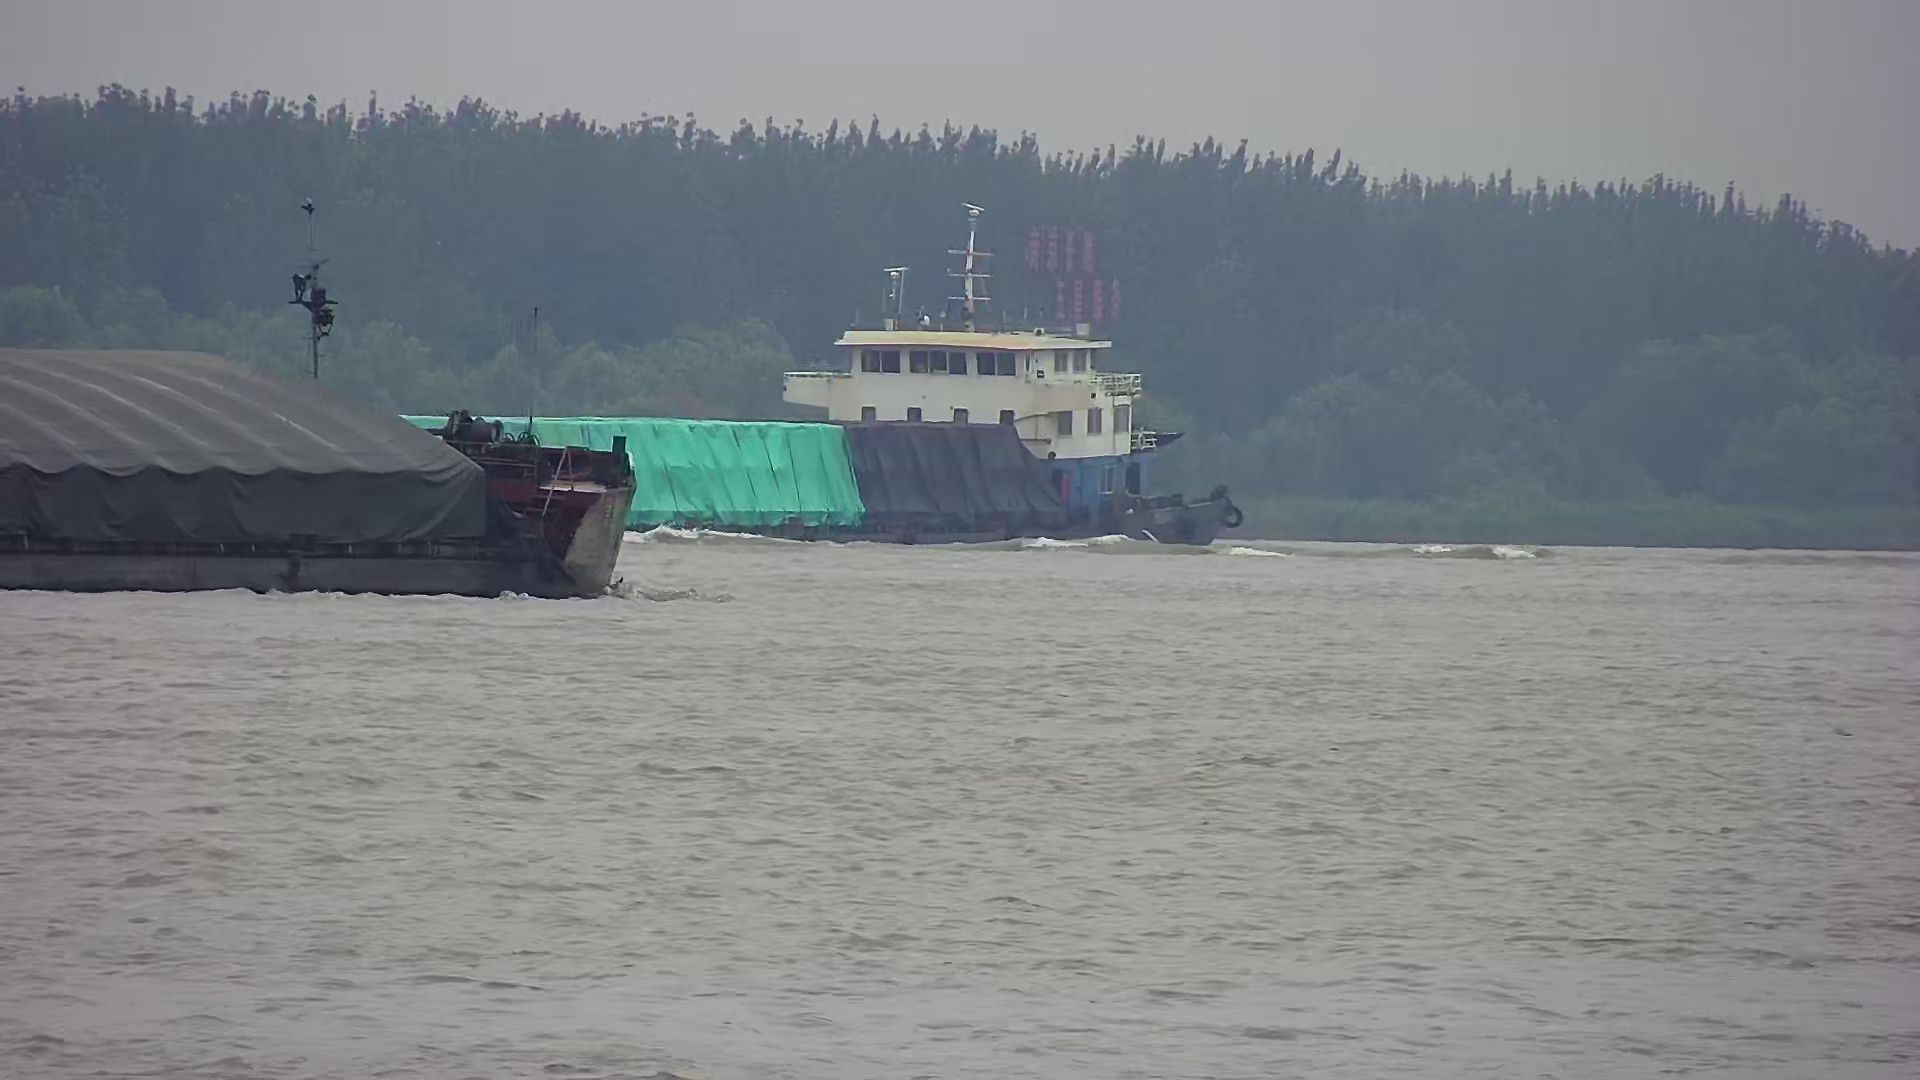ship: (200, 245, 1240, 560), (1, 194, 640, 600)
